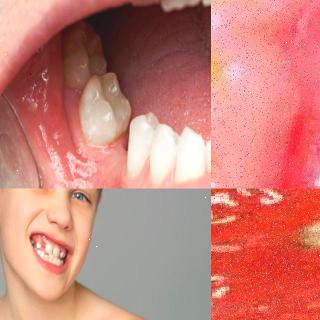Gum Swelling: (211, 0, 320, 188), (211, 188, 320, 320)
calculus: (287, 190, 320, 286)
maligned: (44, 254, 49, 262)
